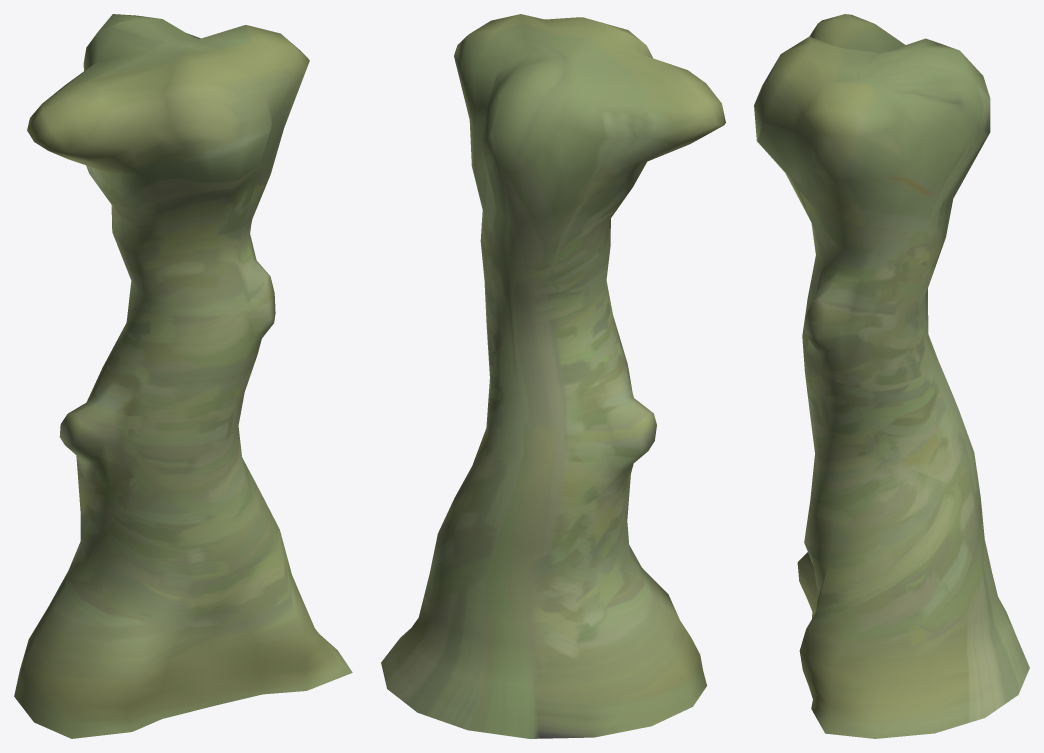
File: GiantTreeInside.fbx
The picture shows the model from 3 angles, left to right: view 1: azimuth 30°, elevation 25°; view 2: azimuth 150°, elevation 25°; view 3: azimuth 270°, elevation 25°; orthographic projection. The views are drawn at different scales.
Visible parts, largest first — view 1: GiantTreeInside; view 2: GiantTreeInside; view 3: GiantTreeInside.
Boxes of the visible parts, box(x1,y1,x2,y2) form: GiantTreeInside: box(14, 14, 352, 738); GiantTreeInside: box(381, 14, 725, 738); GiantTreeInside: box(754, 14, 1029, 738).
Bounding box in the file's own units: 3216 × 6301 × 2562.
